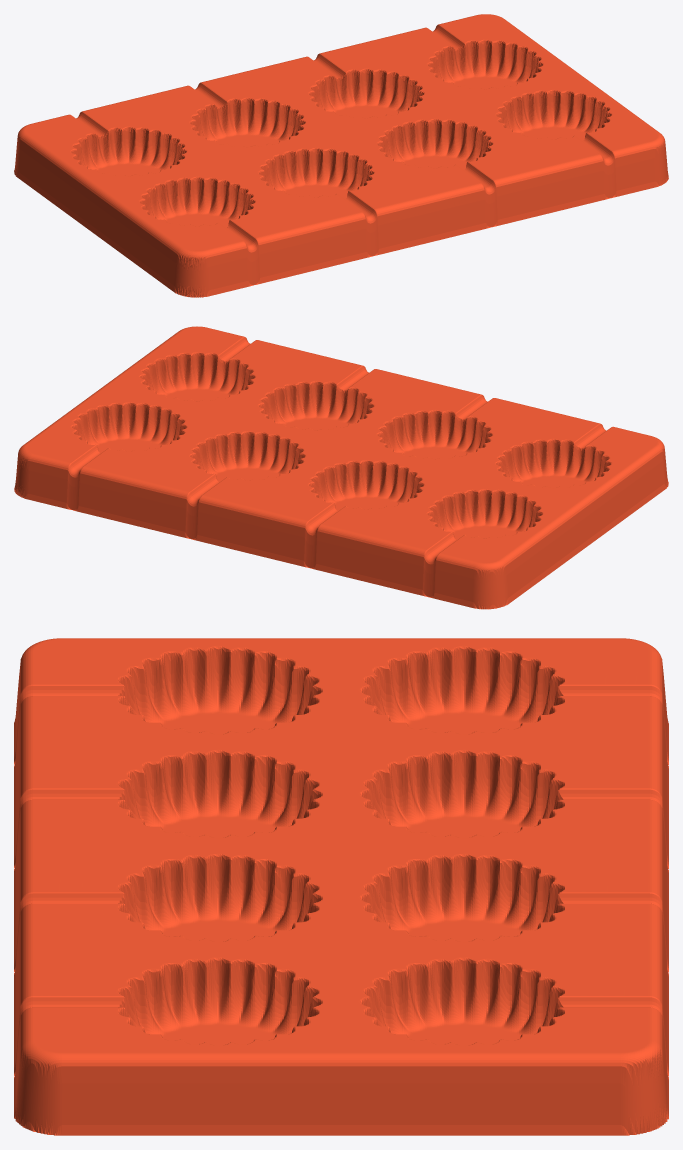
File: mold.glb
3 renders of one model, top to bottom at view 1: azimuth 30°, elevation 25°; view 2: azimuth 150°, elevation 25°; view 3: azimuth 270°, elevation 25°, orthographic. The views are drawn at different scales.
Visible parts, largest first — view 1: geometry_0; view 2: geometry_0; view 3: geometry_0.
Part boxes in pixels (bbox=[...]): geometry_0: bbox=[14, 14, 668, 297]; geometry_0: bbox=[14, 326, 668, 609]; geometry_0: bbox=[14, 638, 668, 1135].
Bounding box in the file's own units: 0.1907 × 0.0155 × 0.1229.
